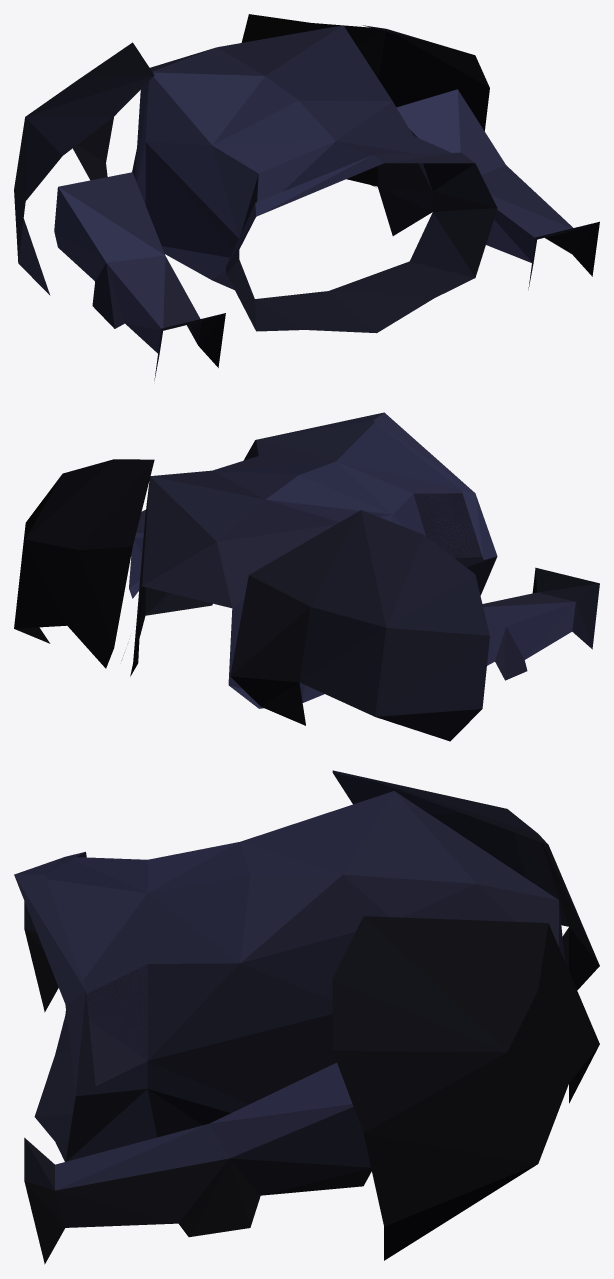
The model's file is mithril-platebody.obj.
The picture shows the model from 3 angles, top to bottom: view 1: azimuth 30°, elevation 25°; view 2: azimuth 150°, elevation 25°; view 3: azimuth 270°, elevation 25°; orthographic projection. The views are drawn at different scales.
Visible parts, largest first — view 1: Item Mithril platebody 2026-09-24_18-14-01; view 2: Item Mithril platebody 2026-09-24_18-14-01; view 3: Item Mithril platebody 2026-09-24_18-14-01.
Part boxes in pixels (x1,y1,x2,y2): Item Mithril platebody 2026-09-24_18-14-01: (14,14,599,380); Item Mithril platebody 2026-09-24_18-14-01: (14,412,599,741); Item Mithril platebody 2026-09-24_18-14-01: (14,770,599,1264).
Bounding box in the file's own units: 72 × 30 × 57.
